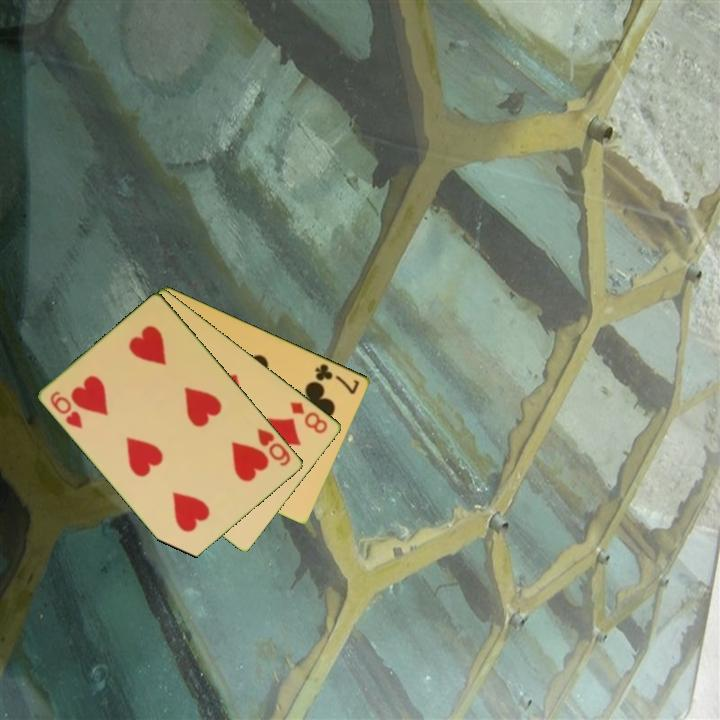6h: (254, 424, 294, 469), (47, 387, 86, 432)
7c: (312, 360, 363, 397)
8d: (287, 398, 331, 437)
